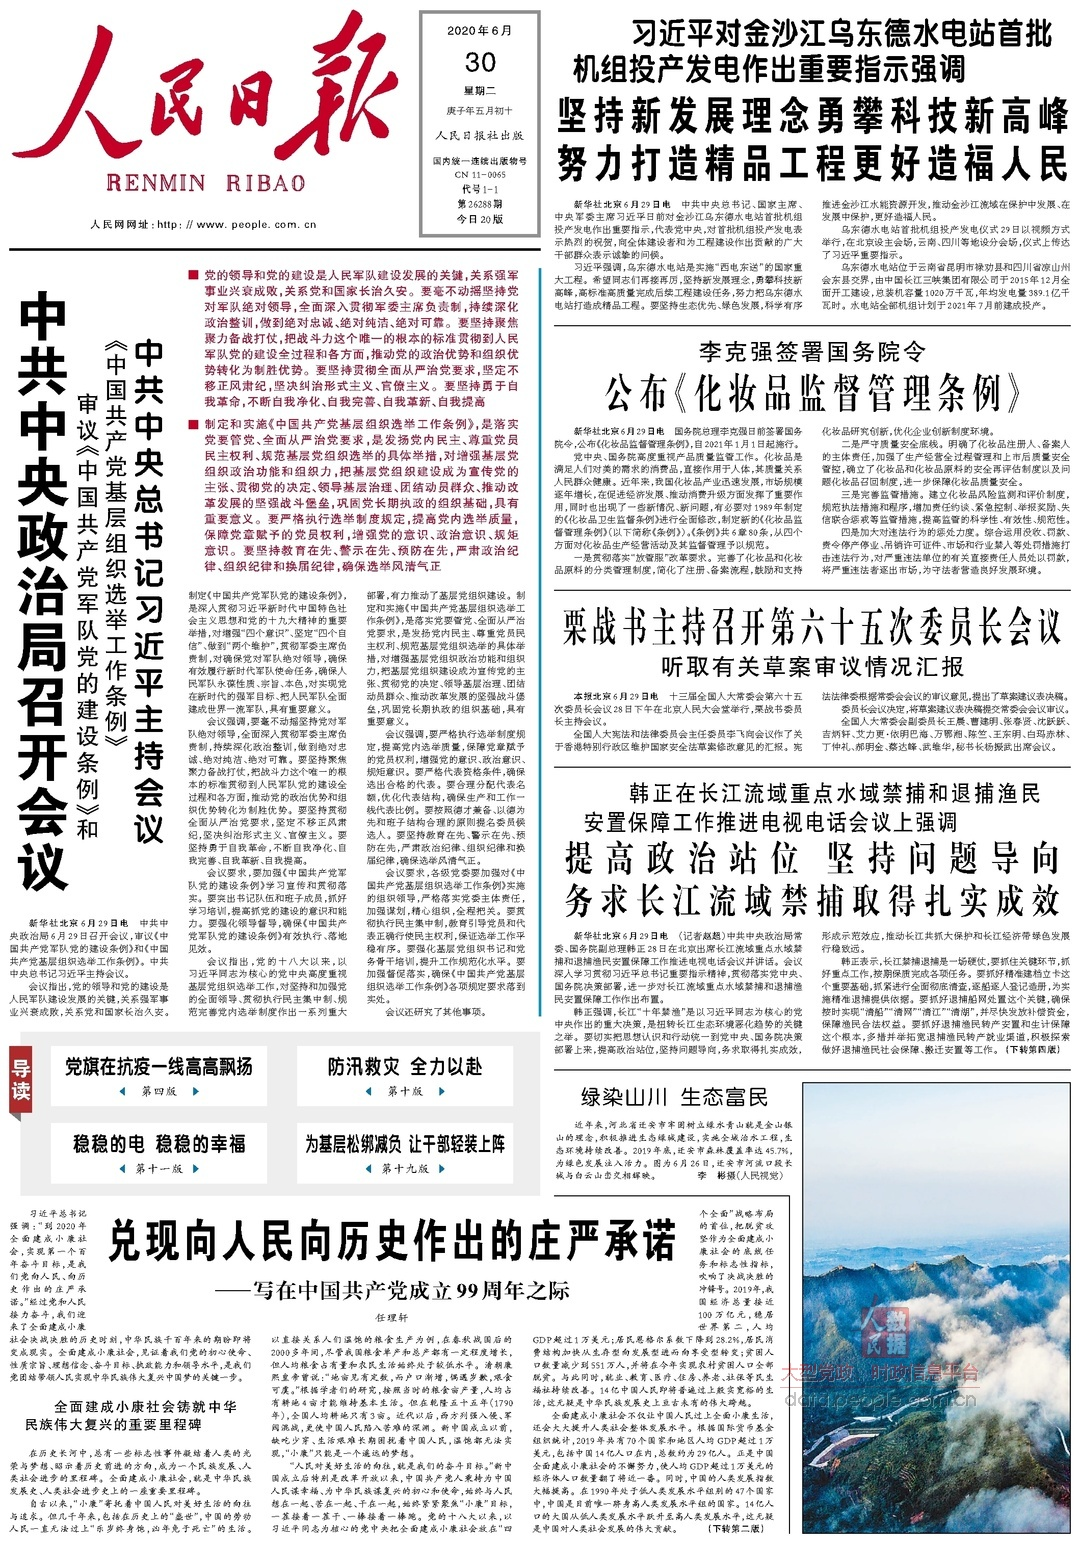pic: (800, 1076, 1073, 1536)
